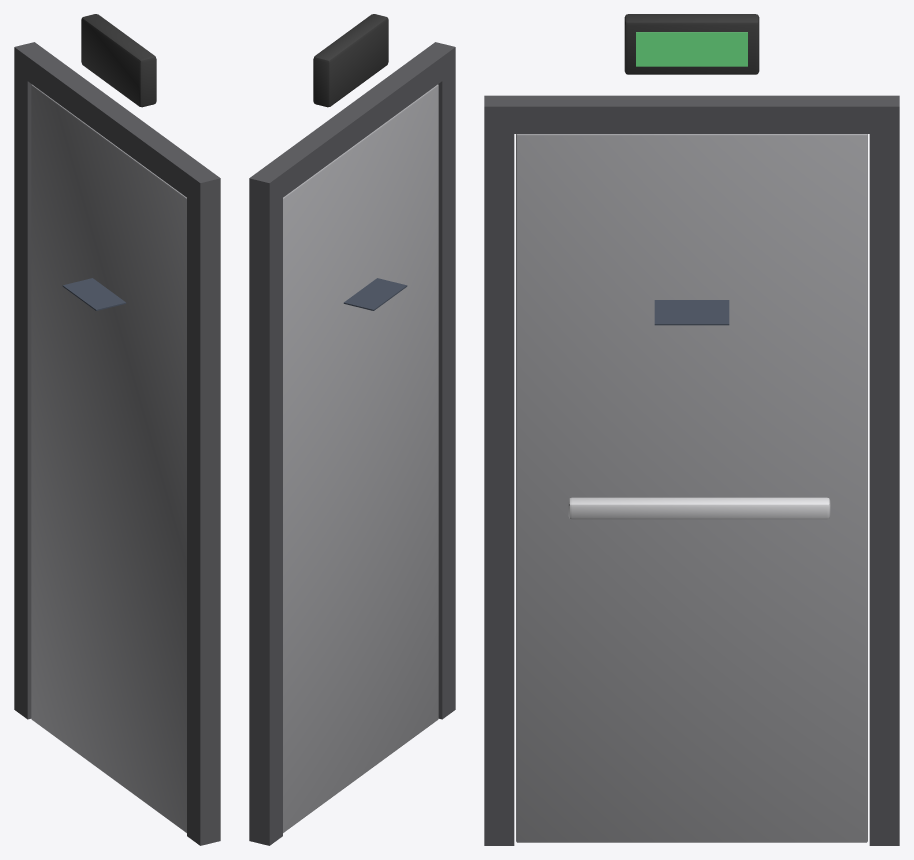
The model's file is SM_ExitDoor.fbx.
3 views of the same model, side by side, from view 1: azimuth 30°, elevation 25°; view 2: azimuth 150°, elevation 25°; view 3: azimuth 270°, elevation 25° (orthographic). The views are drawn at different scales.
Parts seen in each view (by area): view 1: SM_ExitDoor; view 2: SM_ExitDoor; view 3: SM_ExitDoor.
Part boxes in pixels (x1,y1,x2,y2): SM_ExitDoor: (14,14,220,845); SM_ExitDoor: (249,14,455,845); SM_ExitDoor: (484,14,899,845).
Size of the model in its own units: 30 by 243 by 111.
